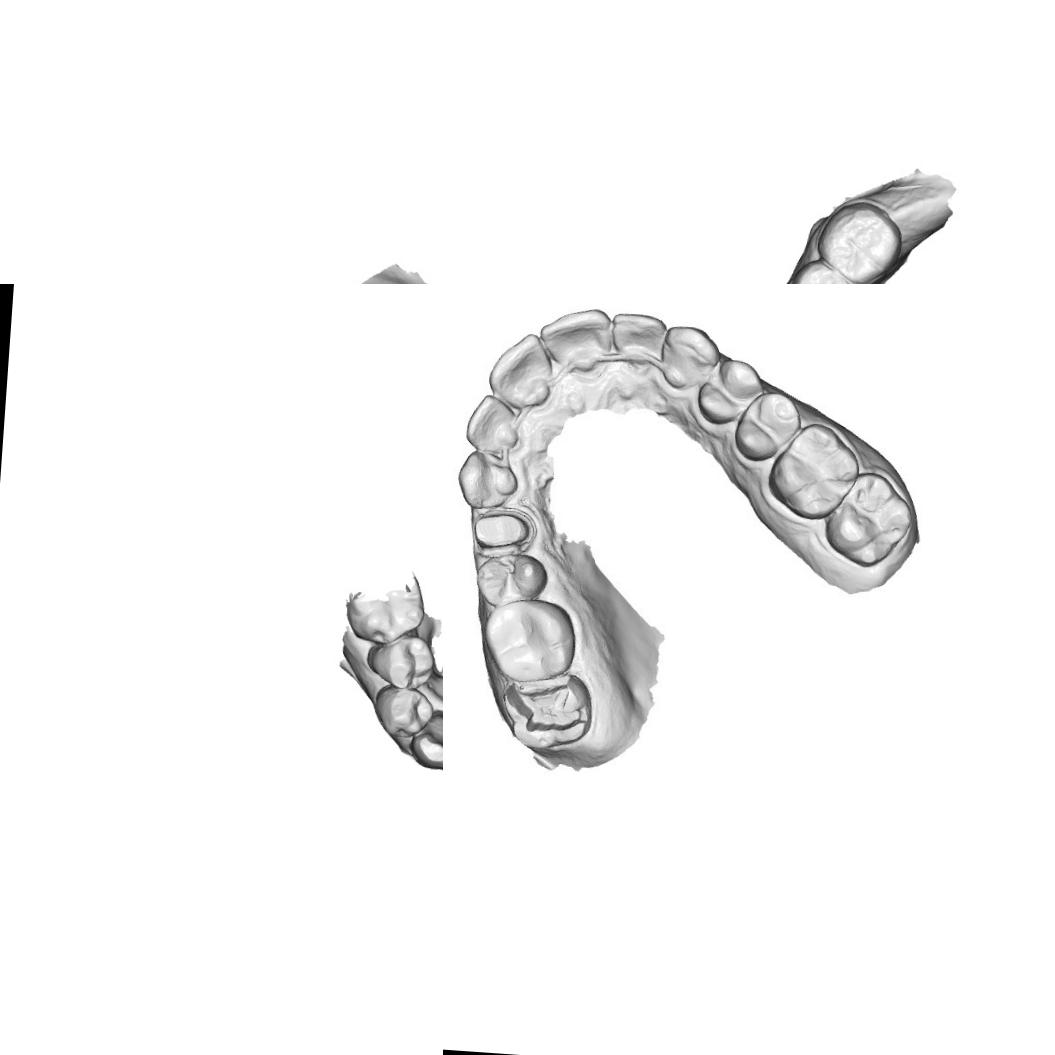canine: (658, 320, 723, 393), (454, 450, 520, 511), (410, 706, 443, 772)
crown: (470, 501, 534, 554)
incisor: (484, 327, 556, 412), (535, 302, 614, 374), (460, 390, 528, 458), (608, 310, 665, 367)
inlay: (498, 670, 593, 738)
molar: (764, 417, 870, 525), (820, 466, 920, 571), (478, 594, 580, 687), (812, 196, 904, 284), (342, 570, 427, 648)
premolar: (730, 388, 801, 466), (694, 356, 766, 429), (470, 549, 550, 608), (364, 630, 438, 690), (369, 680, 436, 742), (787, 256, 856, 284)
